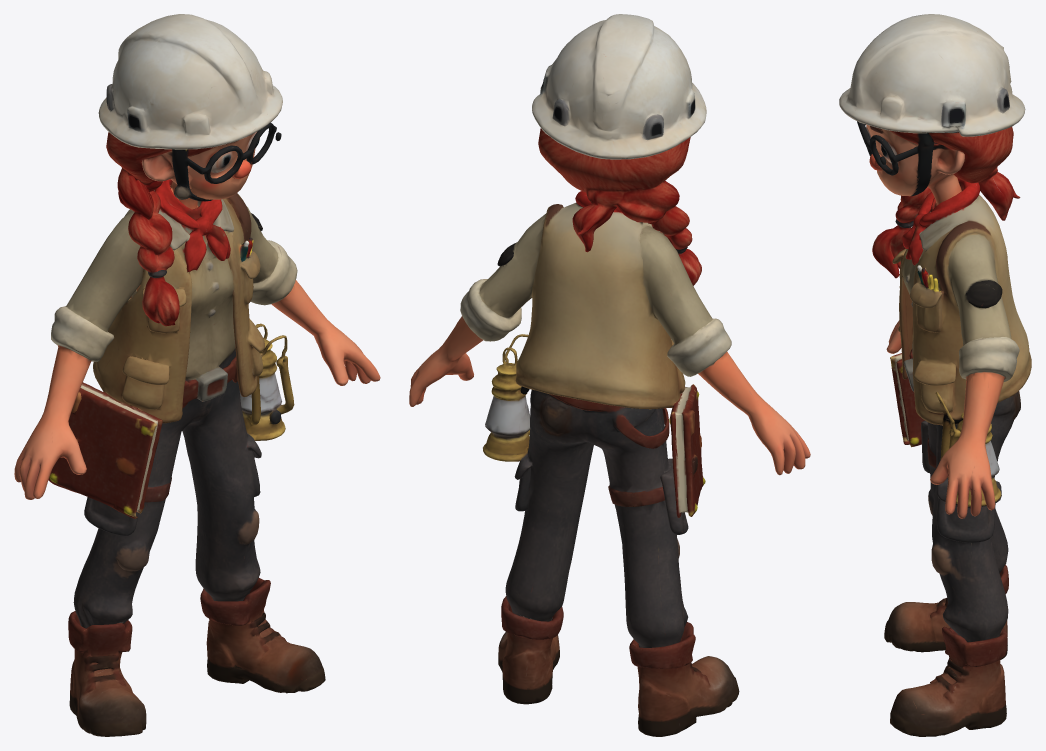
Rendered from olena.glb.
3 renders of one model, left to right at view 1: azimuth 30°, elevation 25°; view 2: azimuth 150°, elevation 25°; view 3: azimuth 270°, elevation 25°, orthographic. The views are drawn at different scales.
Bounding box in the file's own units: 0.509 × 0.8885 × 0.2333.
Materials: 1 (1 with a texture image).
